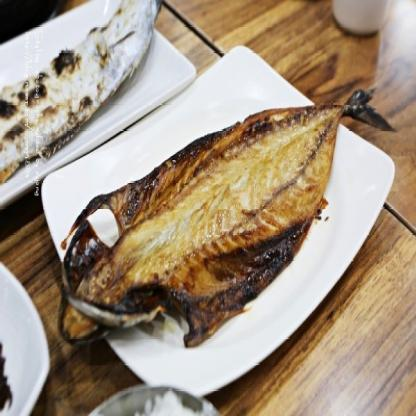Peixe: (52, 80, 388, 359)
